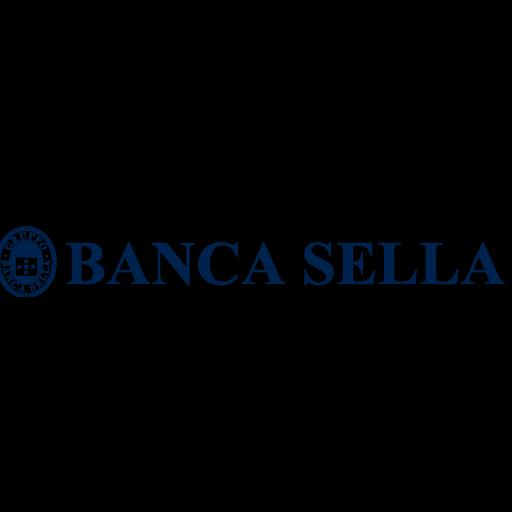Banca Sella: (0, 215, 511, 297)
